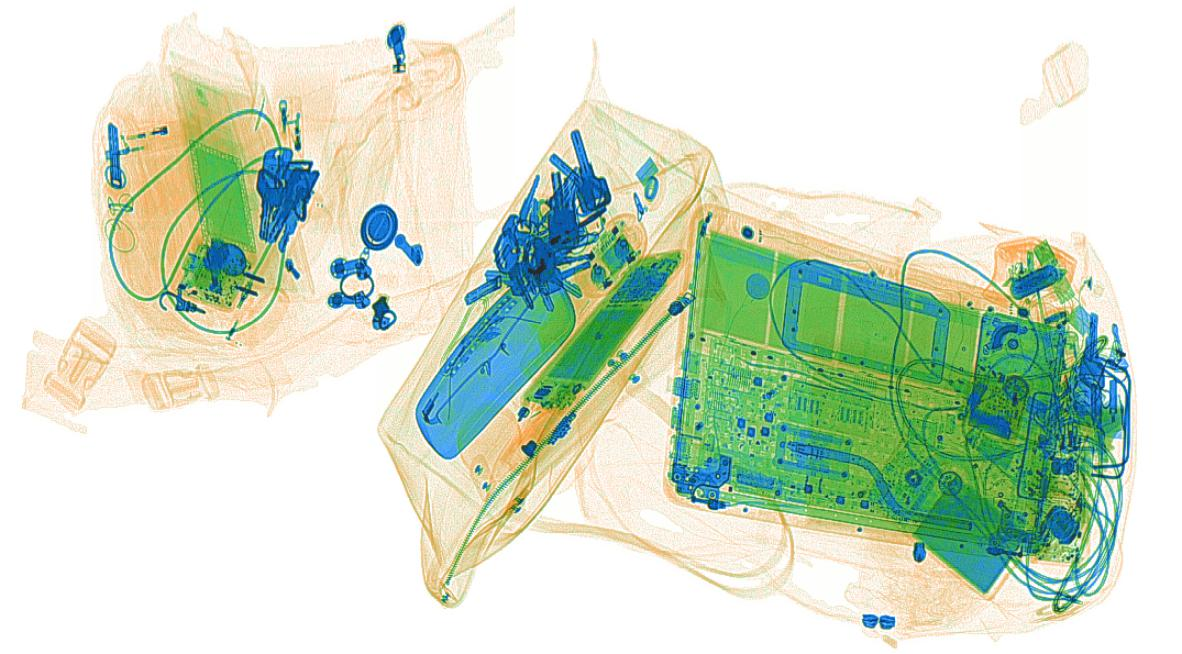USBFlashDisk: (1035, 238, 1077, 304)
battery: (1007, 263, 1061, 302)
lighter: (104, 116, 211, 159), (272, 91, 313, 193)
